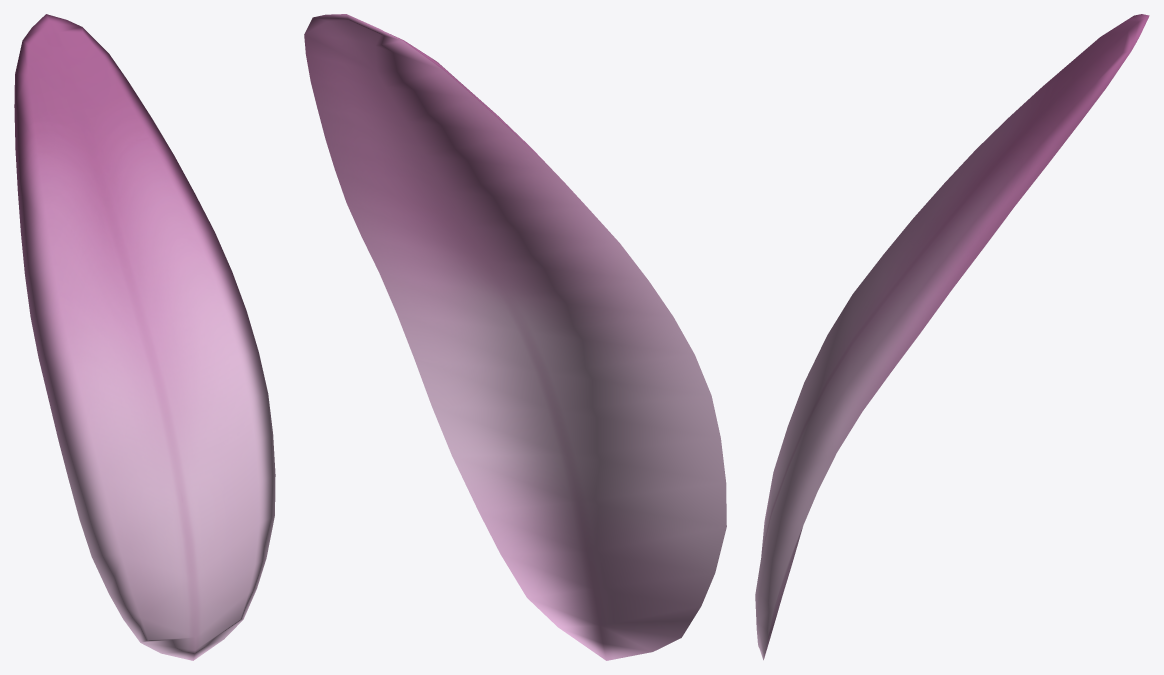
Rendered from Petal1.obj.
3 renders of one model, left to right at view 1: azimuth 30°, elevation 25°; view 2: azimuth 150°, elevation 25°; view 3: azimuth 270°, elevation 25°, orthographic. The views are drawn at different scales.
Parts seen in each view (by area): view 1: Object025; view 2: Object025; view 3: Object025.
Part boxes in pixels (bbox=[...]): Object025: bbox=[14, 14, 275, 660]; Object025: bbox=[304, 14, 726, 660]; Object025: bbox=[755, 14, 1149, 660].
Size of the model in its own units: 41.8 by 102 by 56.14.
